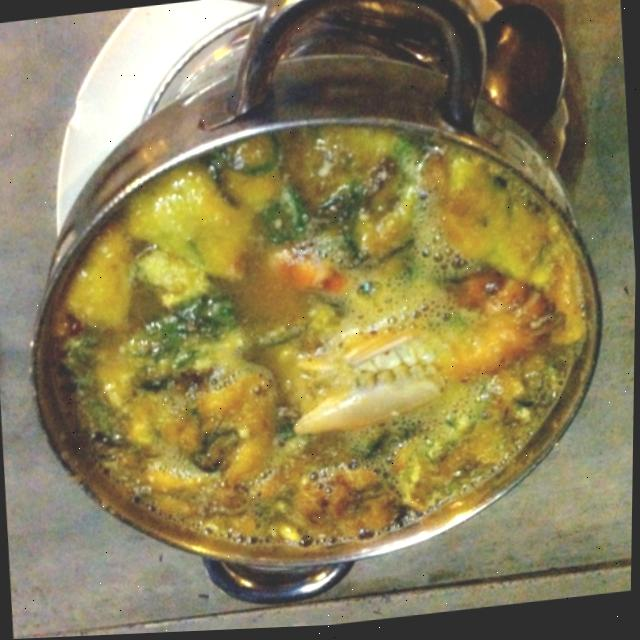汤锅炖物: (37, 81, 605, 595)
